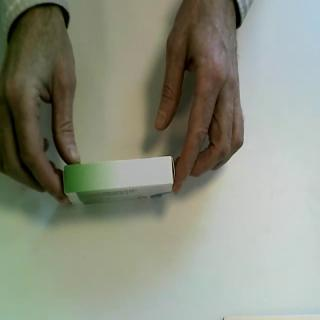oxynorm10mg: (63, 155, 177, 209)
